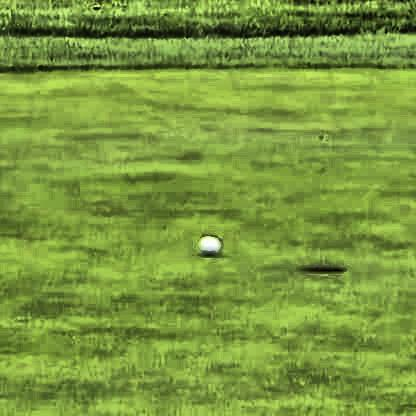golfball: (194, 231, 219, 255)
